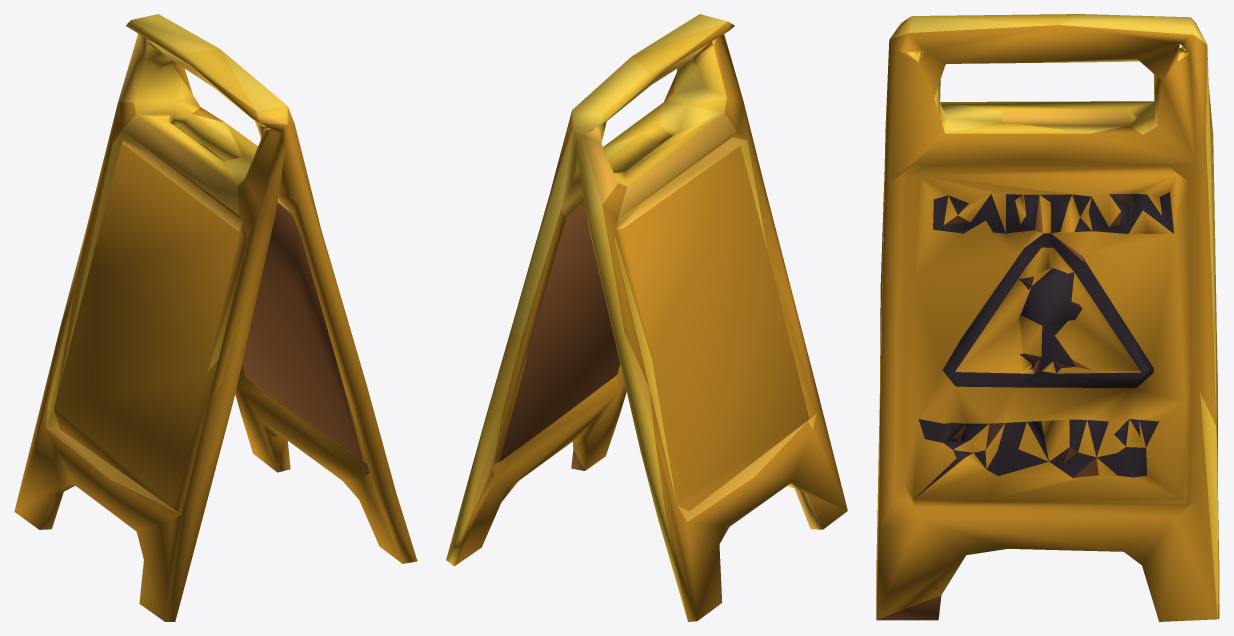
File: SM_sign_wet_floor.fbx
3 renders of one model, left to right at view 1: azimuth 30°, elevation 25°; view 2: azimuth 150°, elevation 25°; view 3: azimuth 270°, elevation 25°, orthographic. The views are drawn at different scales.
Parts seen in each view (by area): view 1: SM_sign_wet_floor; view 2: SM_sign_wet_floor; view 3: SM_sign_wet_floor.
Boxes of the visible parts, left/top/right/bottom form: SM_sign_wet_floor: left=14, top=14, right=417, bottom=621; SM_sign_wet_floor: left=446, top=14, right=847, bottom=621; SM_sign_wet_floor: left=876, top=14, right=1219, bottom=621.
Size of the model in its own units: 32.69 by 60 by 34.8.
1 material, 1 textured.
